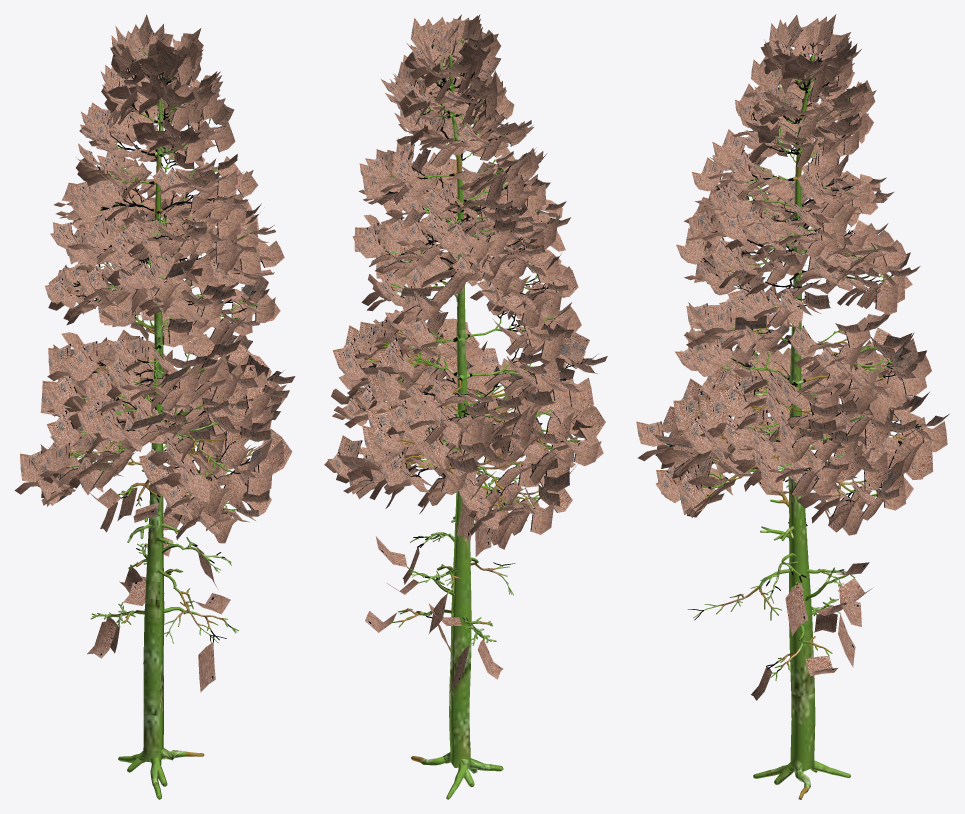
File: Bark___0.obj
3 renders of one model, left to right at view 1: azimuth 30°, elevation 25°; view 2: azimuth 150°, elevation 25°; view 3: azimuth 270°, elevation 25°, orthographic. The views are drawn at different scales.
Visible parts, largest first — view 1: Bark___0; view 2: Bark___0; view 3: Bark___0.
Boxes of the visible parts, x1=… form: Bark___0: x1=14, y1=14, x2=295, y2=799; Bark___0: x1=324, y1=14, x2=607, y2=799; Bark___0: x1=636, y1=14, x2=949, y2=799.
Size of the model in its own units: 6.18 by 17.74 by 6.61.
Materials: 1 (1 with a texture image).
